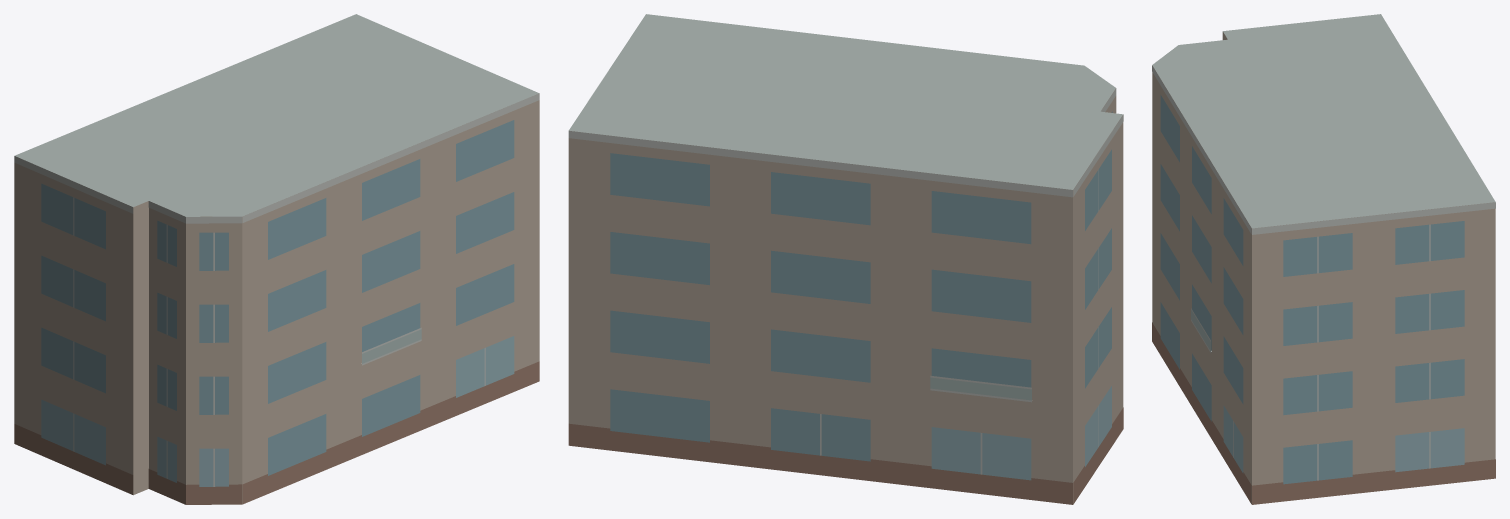
File: survey-upis-33004138.glb
3 views of the same model, side by side, from view 1: azimuth 30°, elevation 25°; view 2: azimuth 150°, elevation 25°; view 3: azimuth 270°, elevation 25° (orthographic). The views are drawn at different scales.
Parts seen in each view (by area): view 1: survey-upis-33004138.tmp; view 2: survey-upis-33004138.tmp; view 3: survey-upis-33004138.tmp.
Part boxes in pixels (x1,y1,x2,y2): survey-upis-33004138.tmp: (14, 14, 539, 504); survey-upis-33004138.tmp: (568, 14, 1123, 504); survey-upis-33004138.tmp: (1152, 14, 1495, 504).
Bounding box in the file's own units: 17.32 × 10.4 × 11.73.
